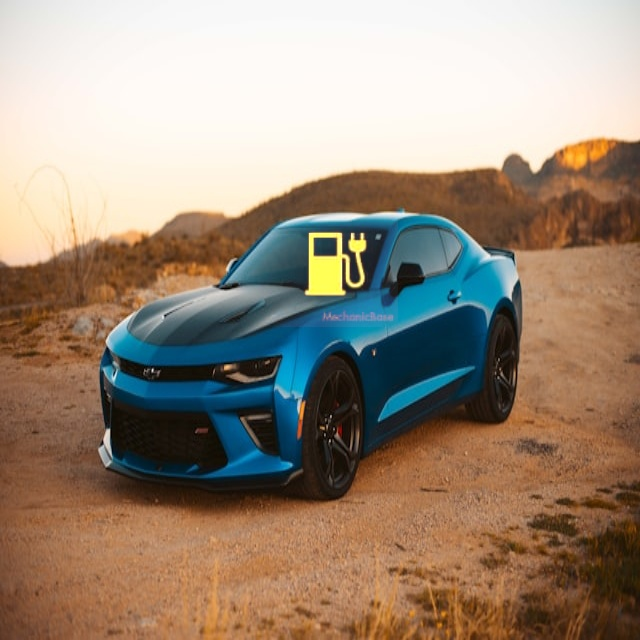symbol: (274, 203, 398, 327)
